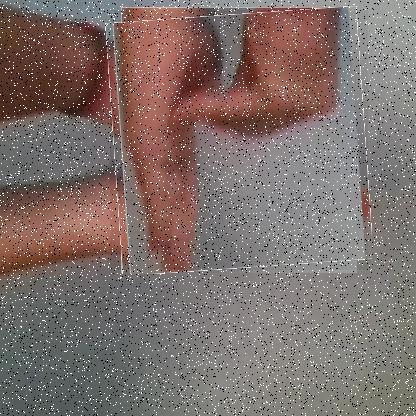Z: (110, 10, 369, 271)
